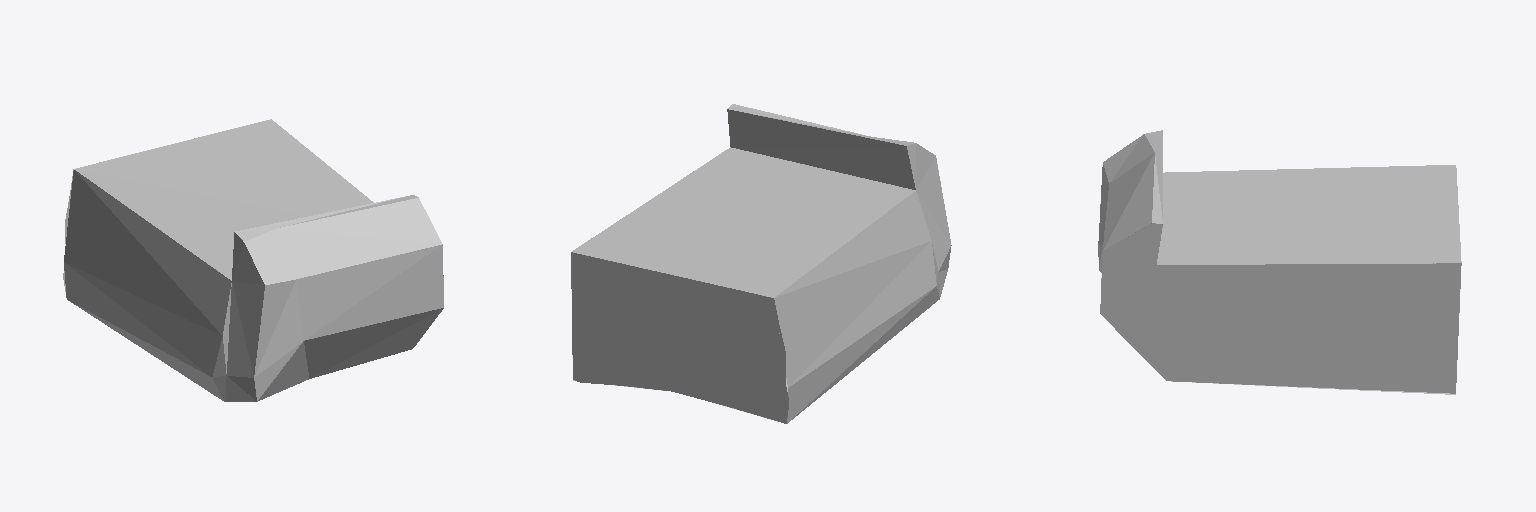
File: BrokenBasePart3.obj
The picture shows the model from 3 angles: view 1: azimuth 30°, elevation 25°; view 2: azimuth 150°, elevation 25°; view 3: azimuth 270°, elevation 25°; orthographic projection.
Visible parts, largest first — view 1: Chassis-Lvl1-Base.006_Chassis-Lvl1_Cube.000_cell.002_Chassis-Lvl; view 2: Chassis-Lvl1-Base.006_Chassis-Lvl1_Cube.000_cell.002_Chassis-Lvl; view 3: Chassis-Lvl1-Base.006_Chassis-Lvl1_Cube.000_cell.002_Chassis-Lvl.
Boxes of the visible parts, x1=… form: Chassis-Lvl1-Base.006_Chassis-Lvl1_Cube.000_cell.002_Chassis-Lvl: x1=63, y1=119, x2=443, y2=401; Chassis-Lvl1-Base.006_Chassis-Lvl1_Cube.000_cell.002_Chassis-Lvl: x1=571, y1=104, x2=951, y2=423; Chassis-Lvl1-Base.006_Chassis-Lvl1_Cube.000_cell.002_Chassis-Lvl: x1=1098, y1=130, x2=1461, y2=394.
Size of the model in its own units: 1.42 by 1.1 by 2.09.